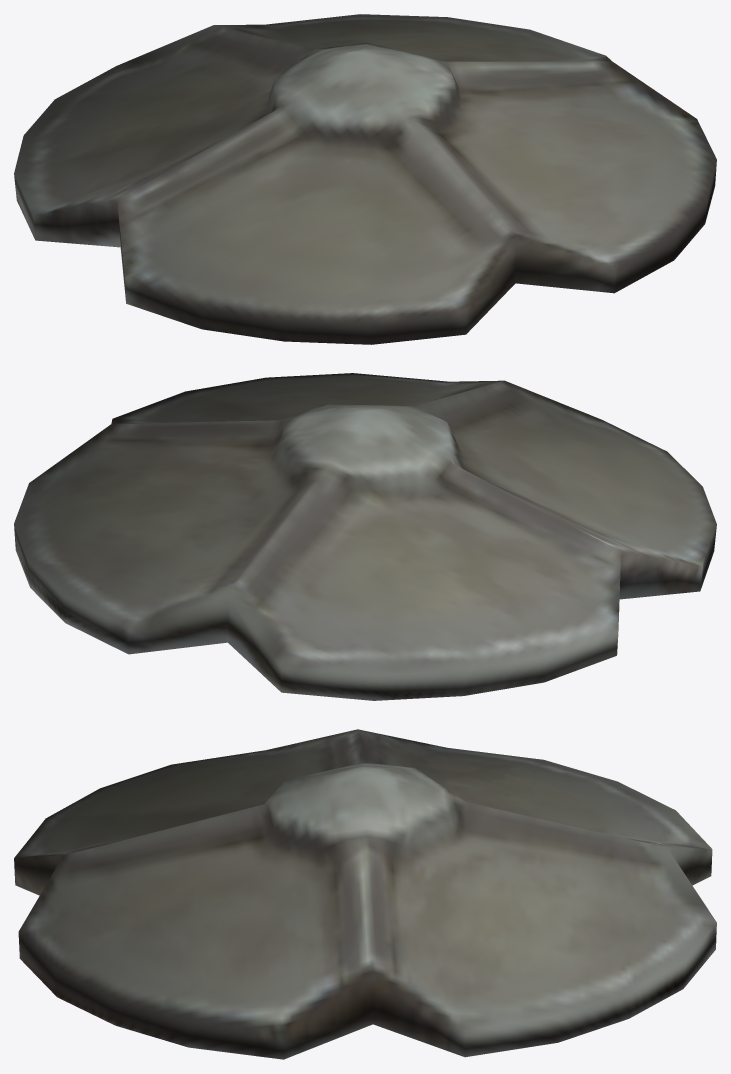
File: GY_shidun.fbx
3 renders of one model, top to bottom at view 1: azimuth 30°, elevation 25°; view 2: azimuth 150°, elevation 25°; view 3: azimuth 270°, elevation 25°, orthographic. The views are drawn at different scales.
Parts seen in each view (by area): view 1: GY_shidun; view 2: GY_shidun; view 3: GY_shidun.
Part boxes in pixels (left/top/right/bottom): GY_shidun: left=14, top=14, right=716, bottom=344; GY_shidun: left=14, top=373, right=716, bottom=700; GY_shidun: left=14, top=729, right=716, bottom=1059.
Bounding box in the file's own units: 56.07 × 13.4 × 56.08.
